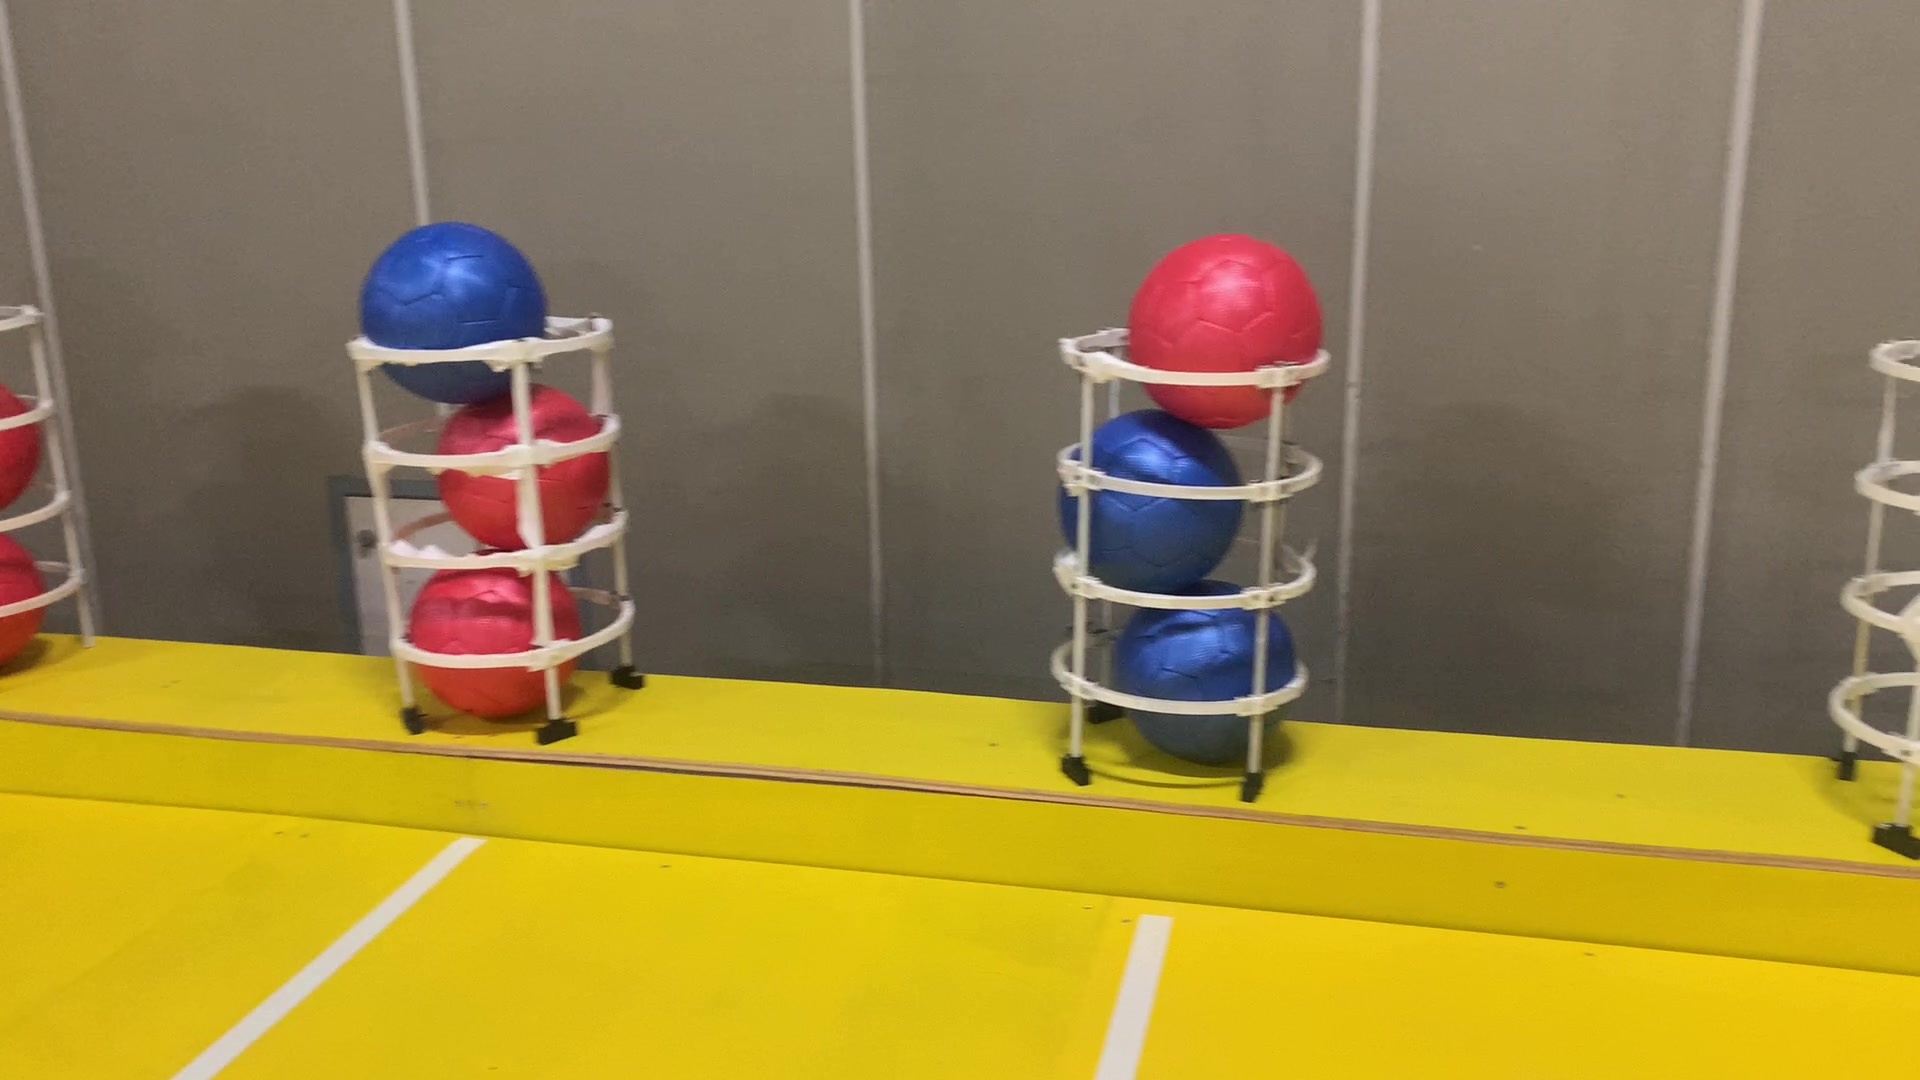blue: (1055, 405, 1246, 599), (1114, 574, 1308, 762), (355, 228, 553, 407)
red: (1126, 236, 1327, 434), (434, 364, 615, 553), (398, 553, 592, 725), (0, 514, 53, 692), (0, 371, 44, 524)
